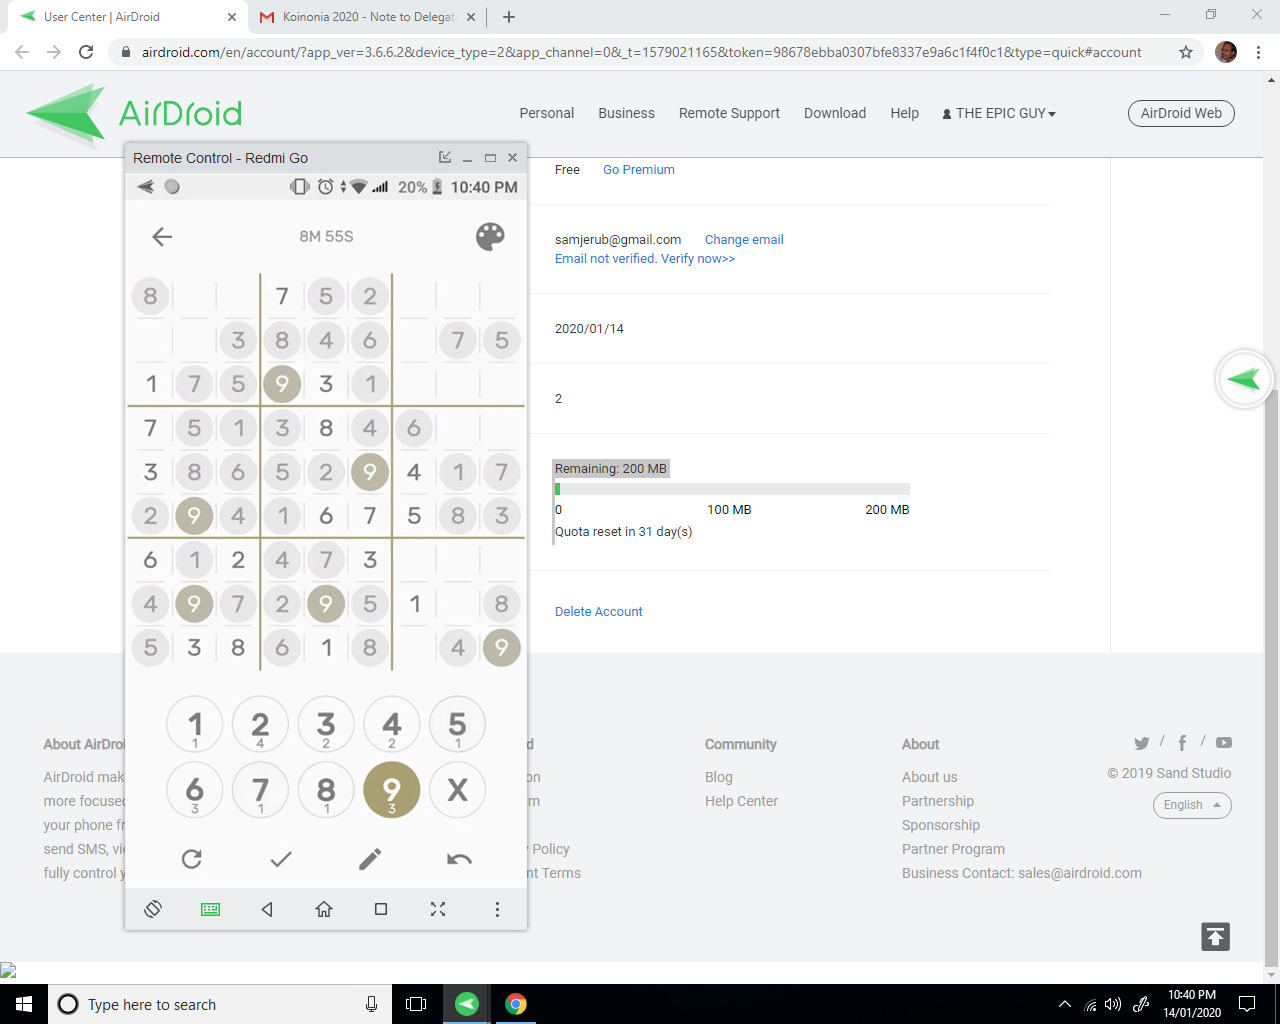9A: (360, 757, 430, 825), (170, 581, 219, 625), (479, 623, 523, 670), (348, 448, 394, 492), (260, 362, 304, 405), (171, 497, 217, 537), (306, 583, 349, 623)
X: (426, 757, 493, 819)
box: (124, 171, 527, 888)
